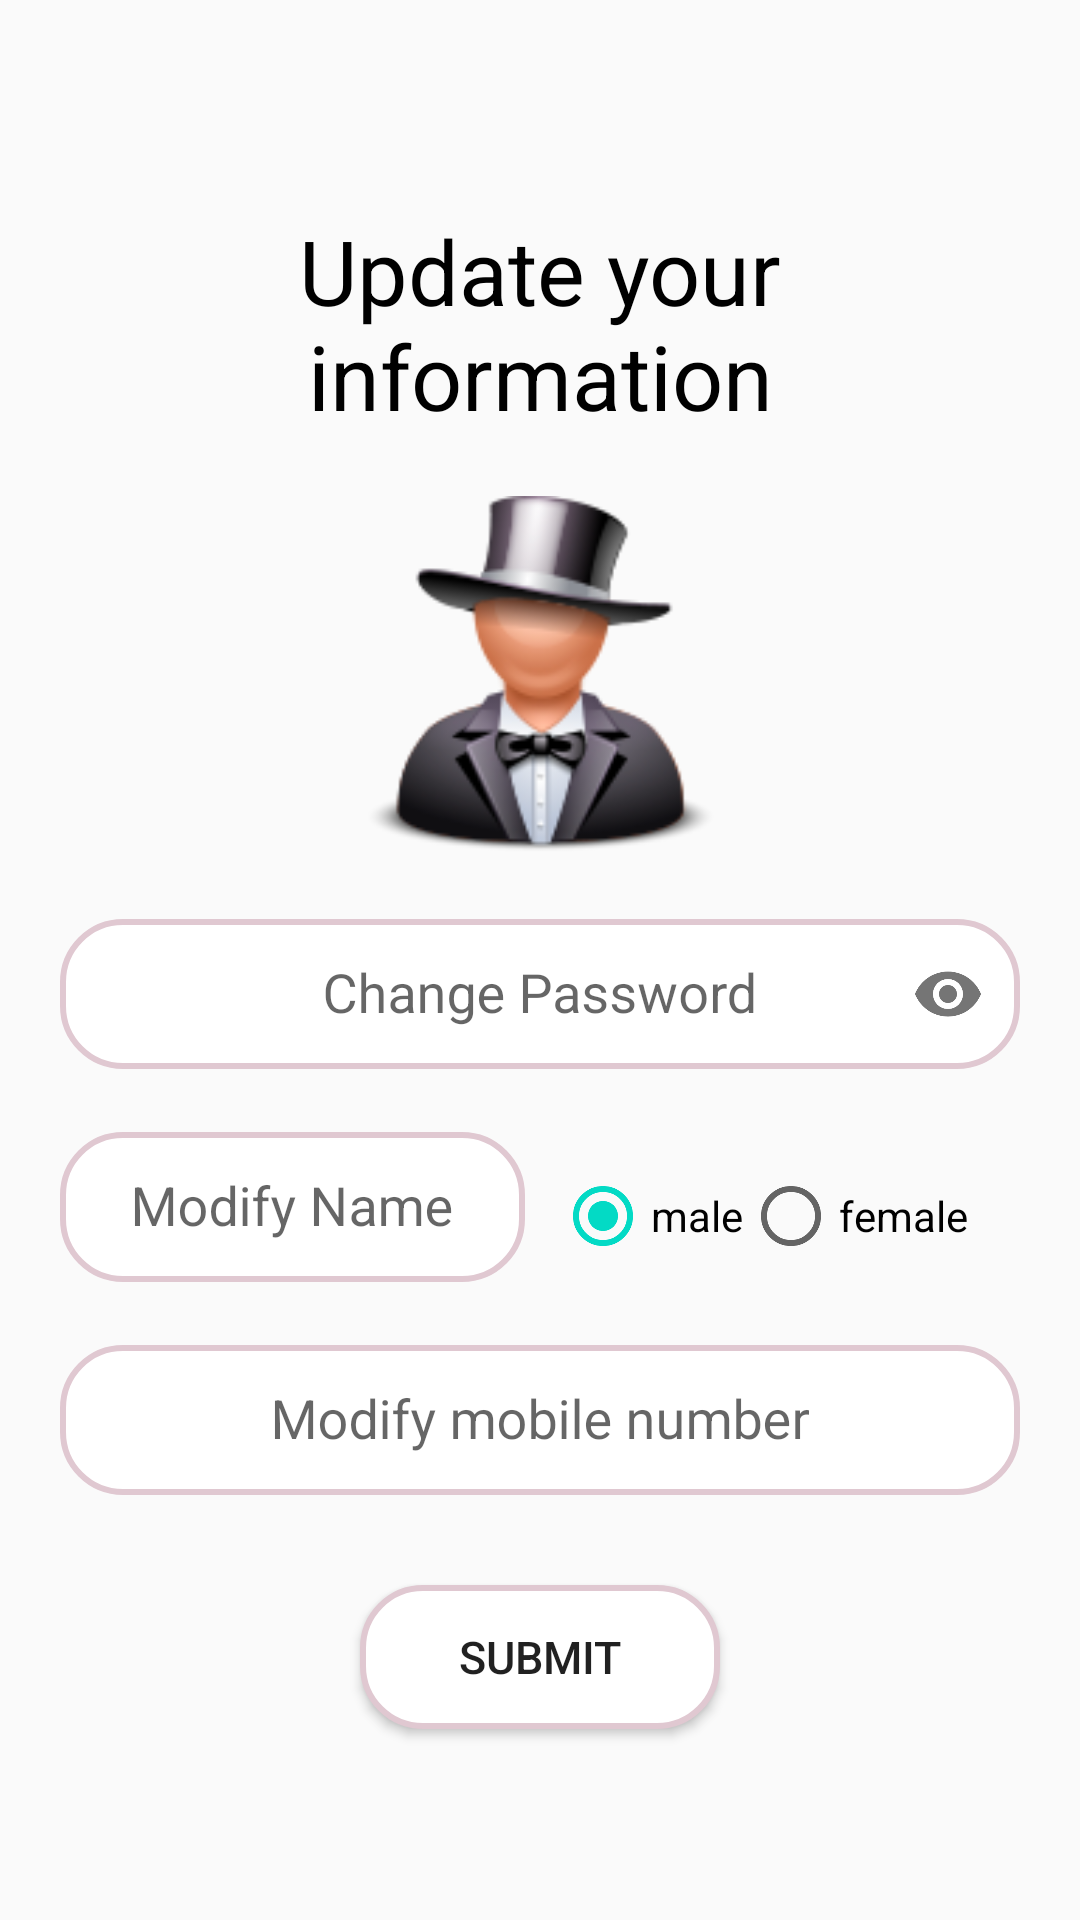

Where icons sit on this 1080 x 1920 app screen, as [left=x1, top=y1, right=x2, bottom=y2]:
head: [left=380, top=496, right=702, bottom=848]
